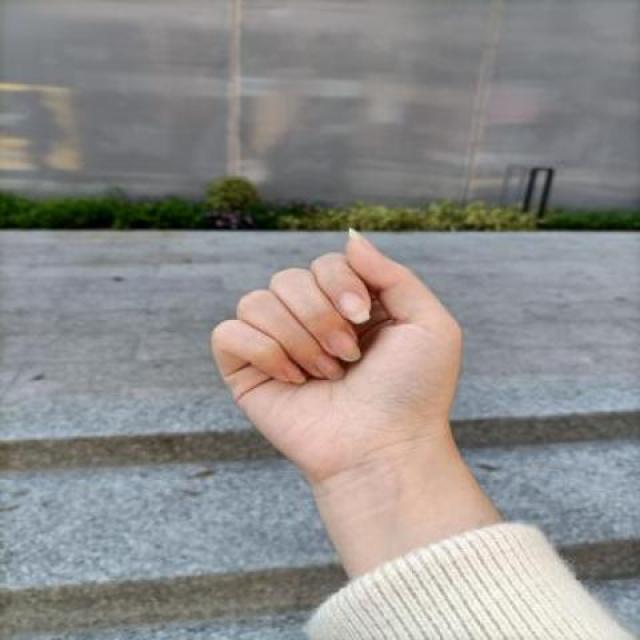Closed Hand: (206, 232, 485, 480)
